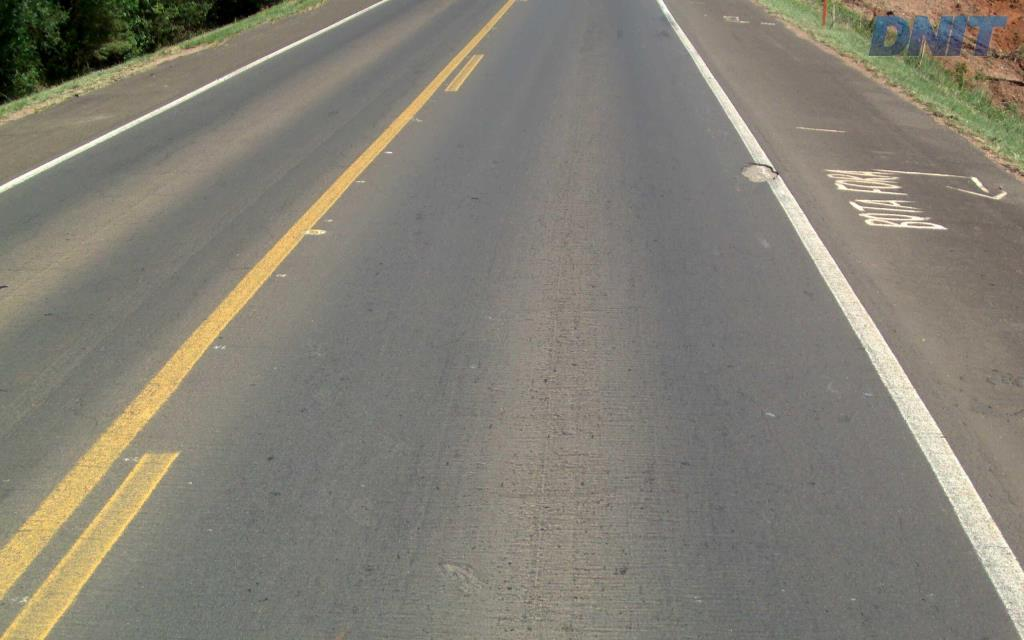pothole: (740, 159, 781, 185)
